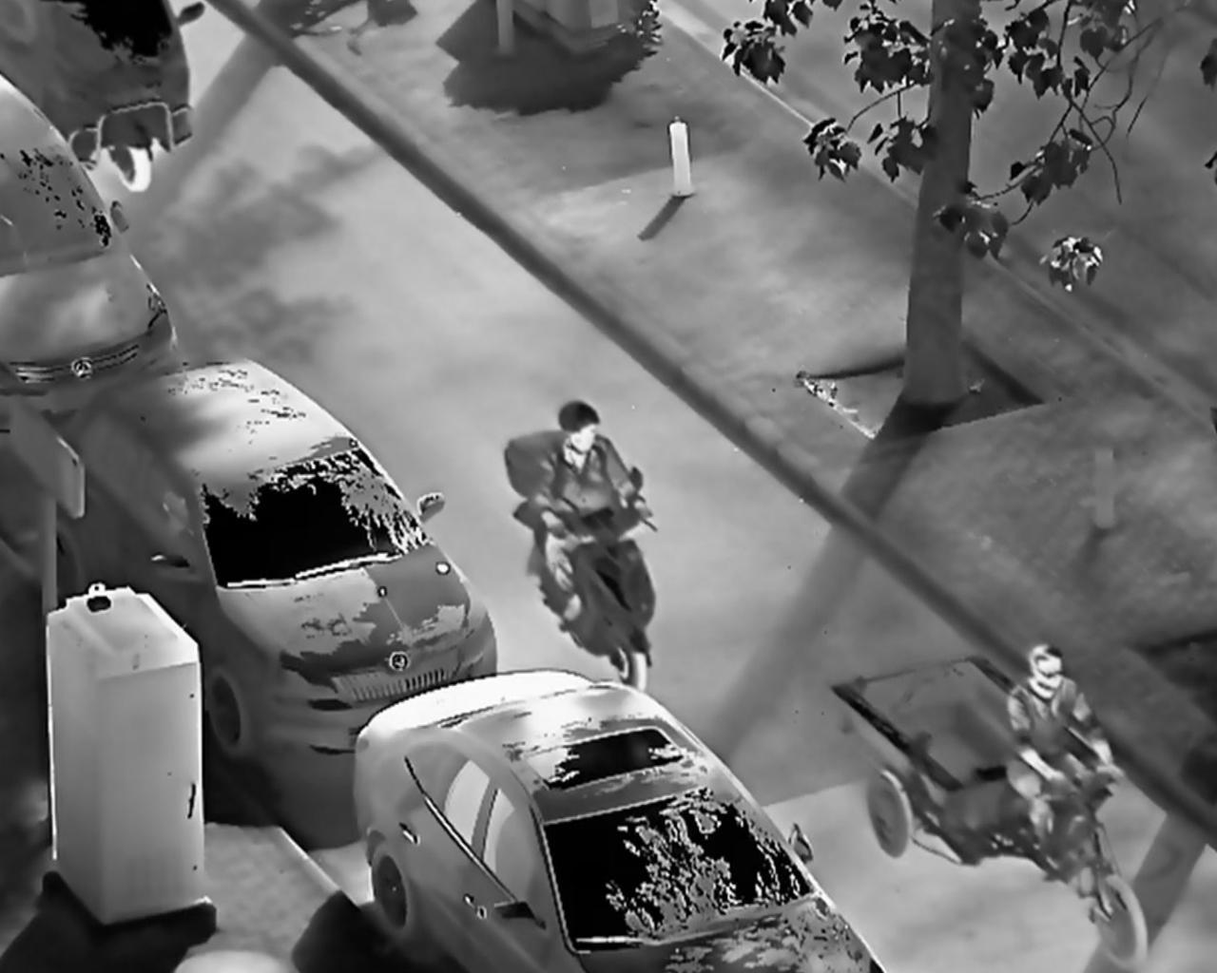person: (533, 396, 653, 633), (1004, 639, 1127, 864)
